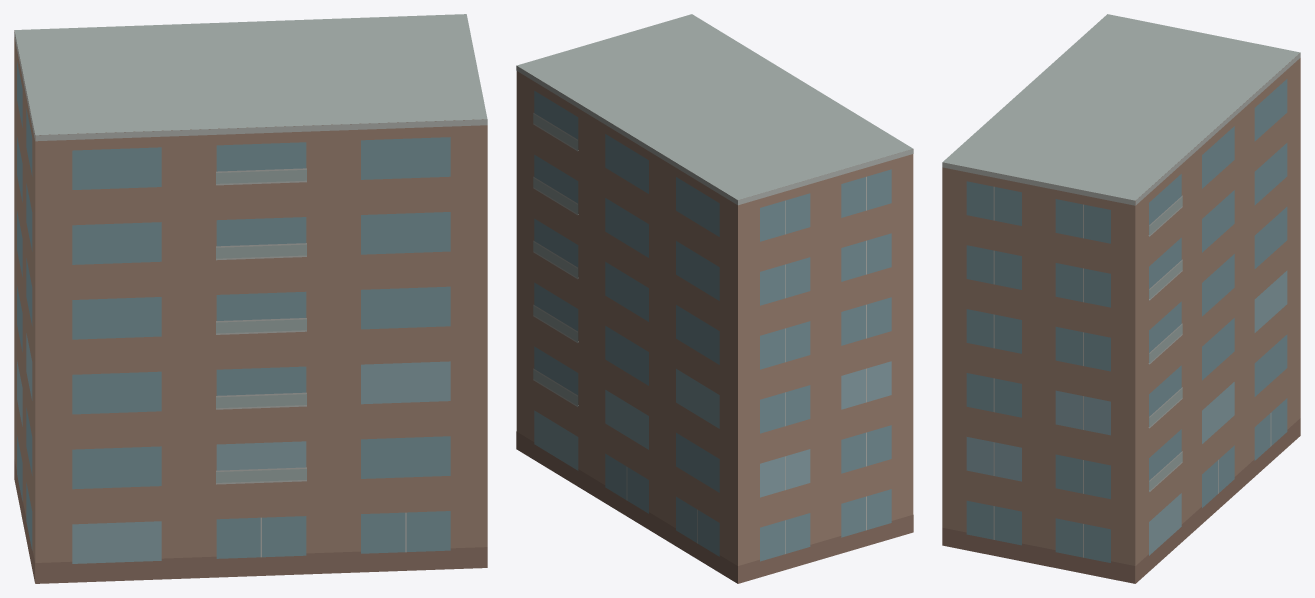
Rendered from survey-upis-32939721.glb.
3 views of the same model, side by side, from view 1: azimuth 30°, elevation 25°; view 2: azimuth 150°, elevation 25°; view 3: azimuth 270°, elevation 25° (orthographic). The views are drawn at different scales.
Visible parts, largest first — view 1: survey-upis-32939721.tmp; view 2: survey-upis-32939721.tmp; view 3: survey-upis-32939721.tmp.
Part boxes in pixels (x1,y1,x2,y2): survey-upis-32939721.tmp: (14, 14, 487, 583); survey-upis-32939721.tmp: (516, 14, 913, 583); survey-upis-32939721.tmp: (942, 14, 1300, 583).
Size of the model in its own units: 19.13 by 18.3 by 15.51.
